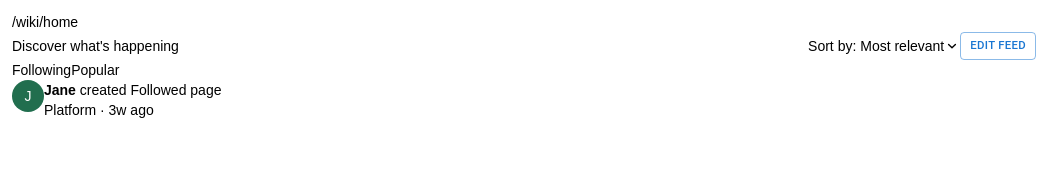
it: JL-152 feed tabs › changes the feed content when the tab changes
Expected: the button "Followed page" is shown, [130,80,222,100]
Click the tab "Popular". click: (95, 70)
box: [71,60,119,80]
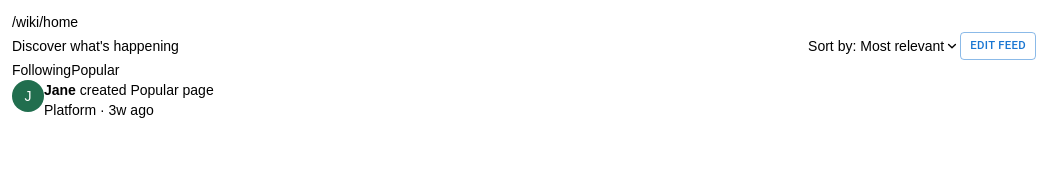
Result: the button "Popular page" is shown at [130,80,214,100]
Result: the button "Followed page" is gone
